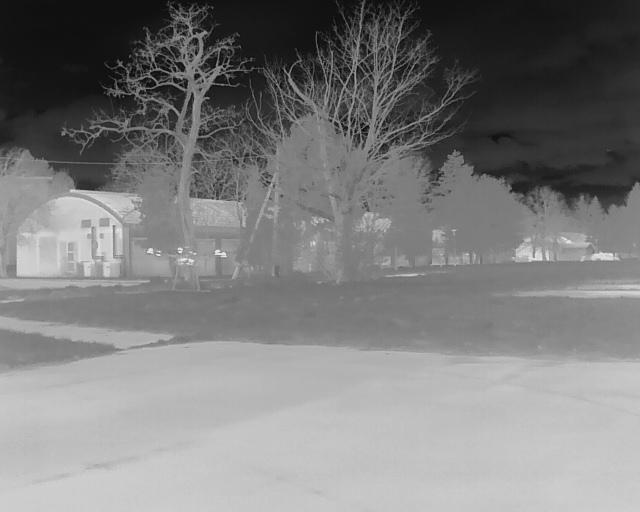drone: (142, 242, 226, 302)
